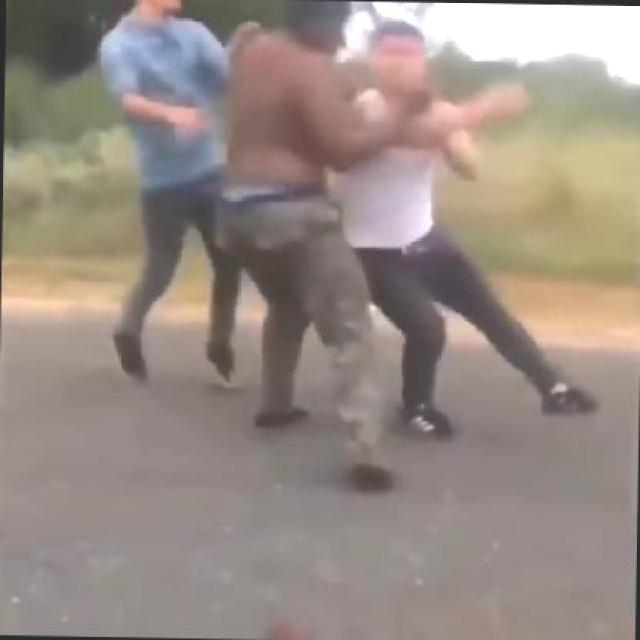fight: (215, 0, 518, 478)
